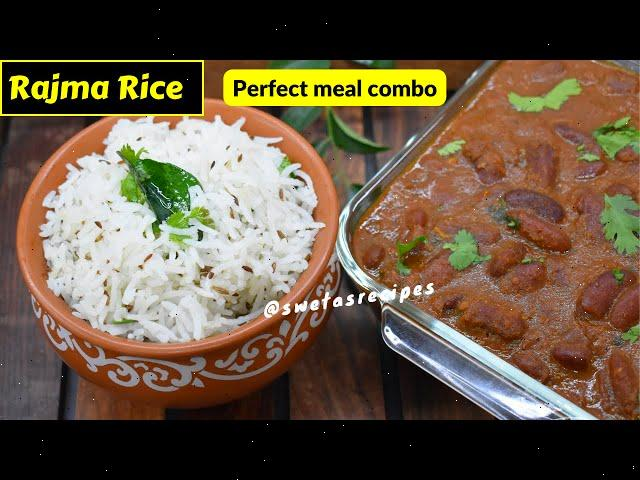rajma: (373, 136, 640, 393)
rice: (49, 134, 321, 313)
